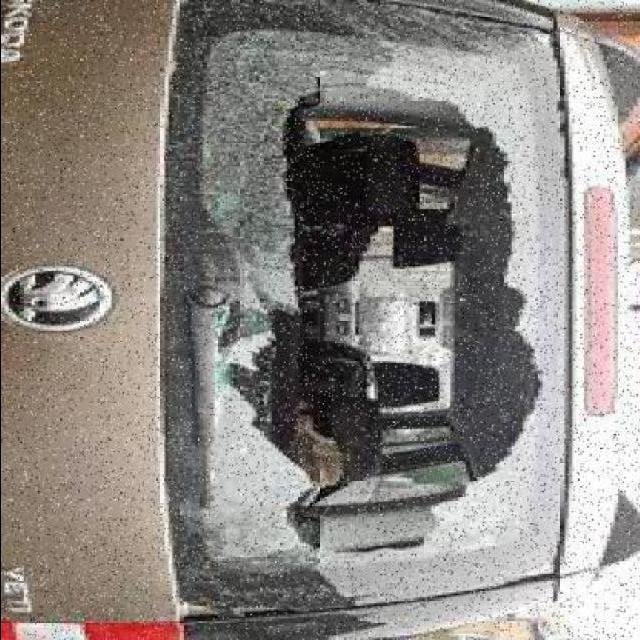Rear-windscreen-Damage: (75, 20, 612, 611)
